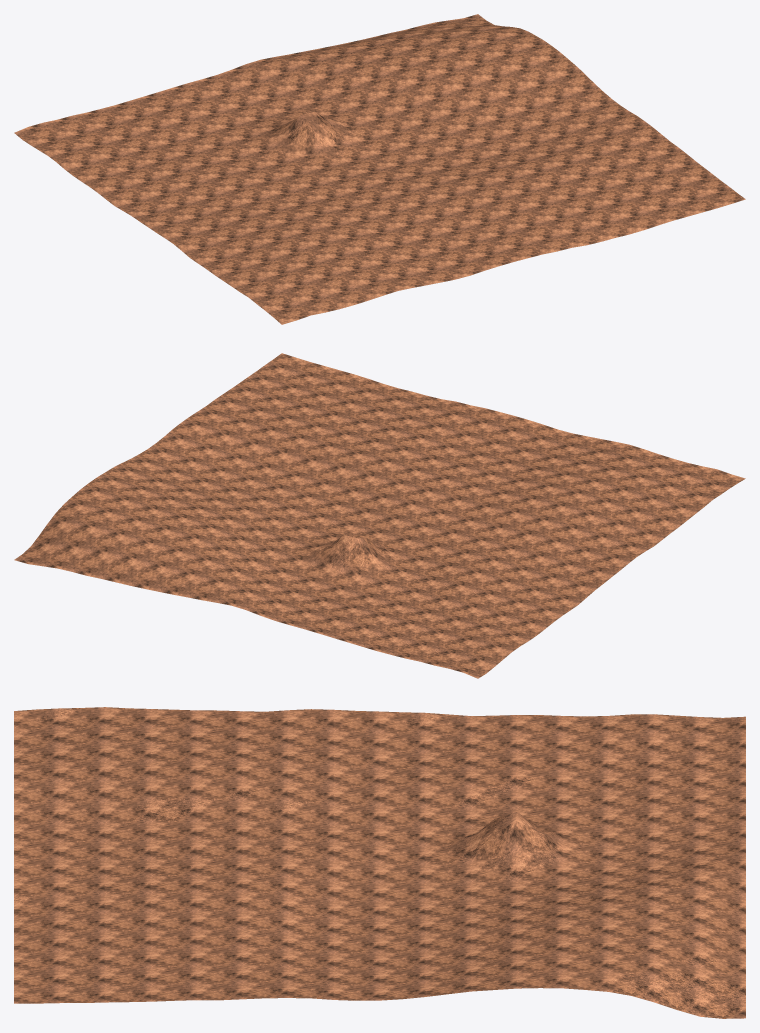
Rendered from terrain_10_08.dae.
3 renders of one model, top to bottom at view 1: azimuth 30°, elevation 25°; view 2: azimuth 150°, elevation 25°; view 3: azimuth 270°, elevation 25°, orthographic. The views are drawn at different scales.
Visible parts, largest first — view 1: terrain_10_08-node; view 2: terrain_10_08-node; view 3: terrain_10_08-node.
Part boxes in pixels (x1=…): terrain_10_08-node: x1=14, y1=14, x2=745, y2=324; terrain_10_08-node: x1=14, y1=353, x2=745, y2=678; terrain_10_08-node: x1=14, y1=707, x2=745, y2=1018.
Size of the model in its own units: 128 by 128 by 8.02.
Materials: 1 (1 with a texture image).
